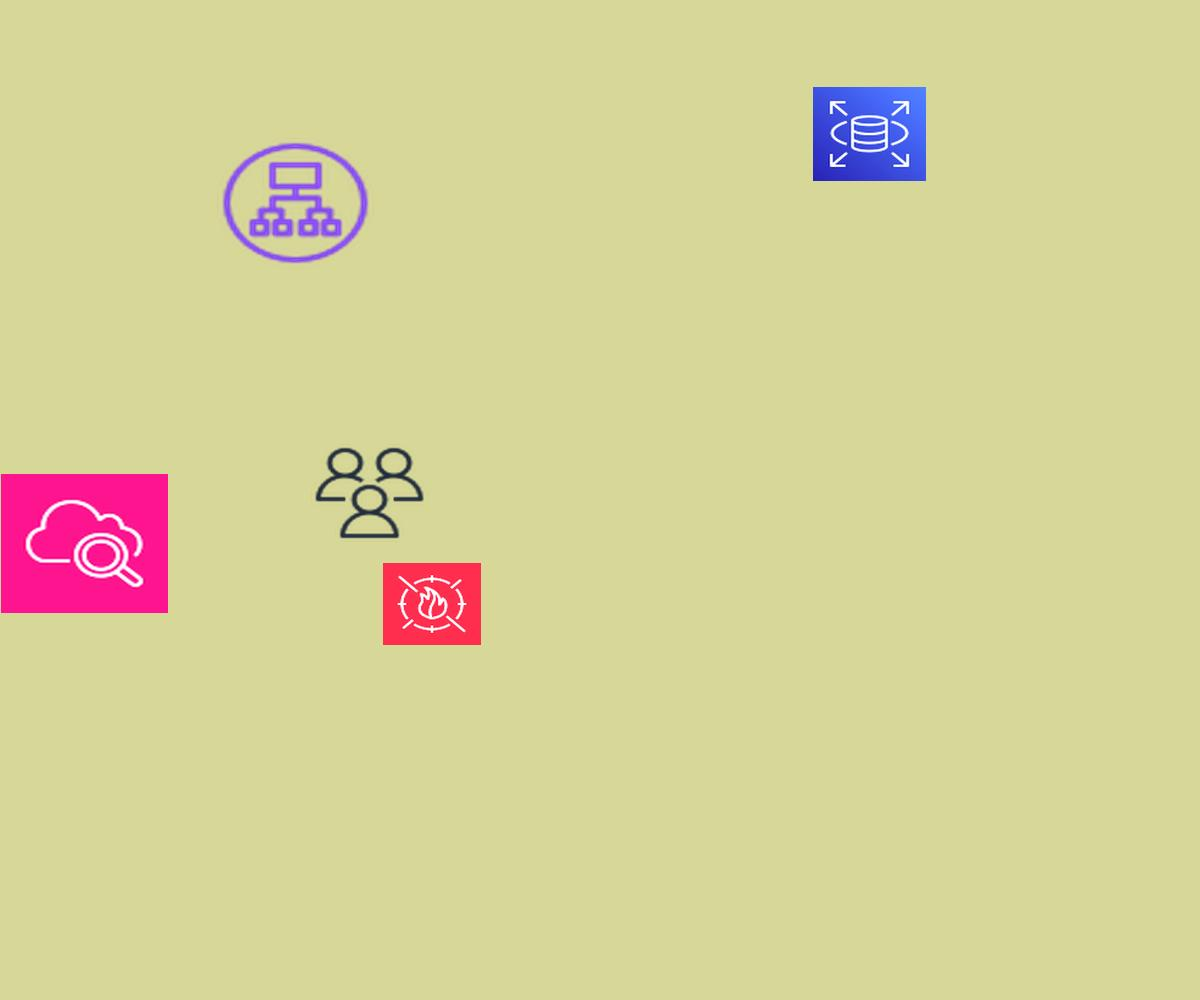AWS-CloudWatch: (1, 474, 168, 613)
AWS-RDS: (813, 87, 926, 181)
AWS-Res_Elastic-Load-Balancing_Application-Load-Balancer: (217, 138, 374, 268)
AWS-Res_Users: (311, 444, 428, 542)
AWS-WAF: (383, 563, 481, 645)
